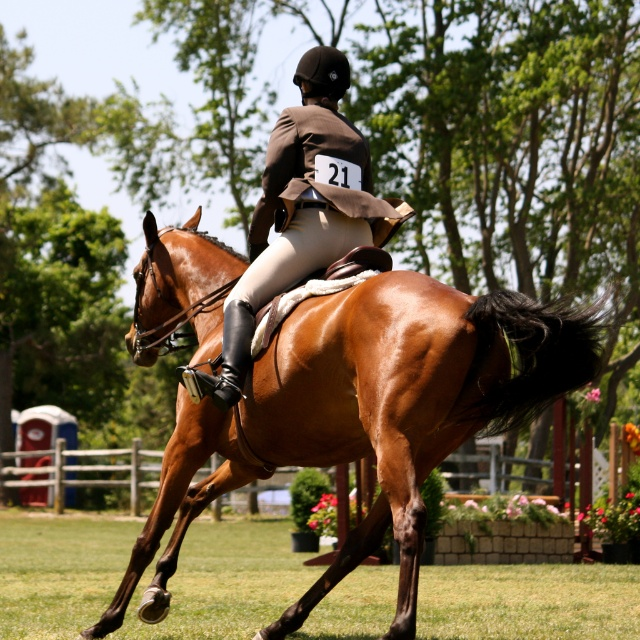Horse: (79, 205, 636, 640)
